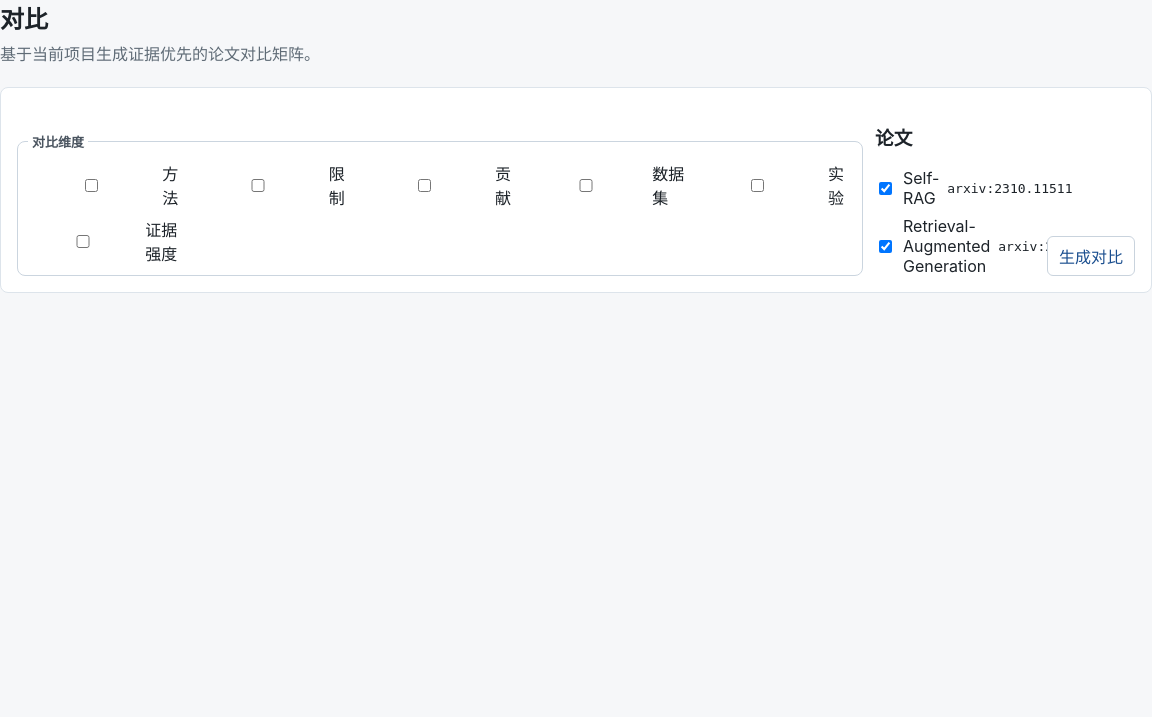
it: Overview and Library pages › compare page creates an evidence-first matrix and DSH handoff
Expected: the heading "对比" is shown, [0,5,48,34]
Click the checkbox labelled "方法". click: (92, 185)
box: [32,179,151,192]
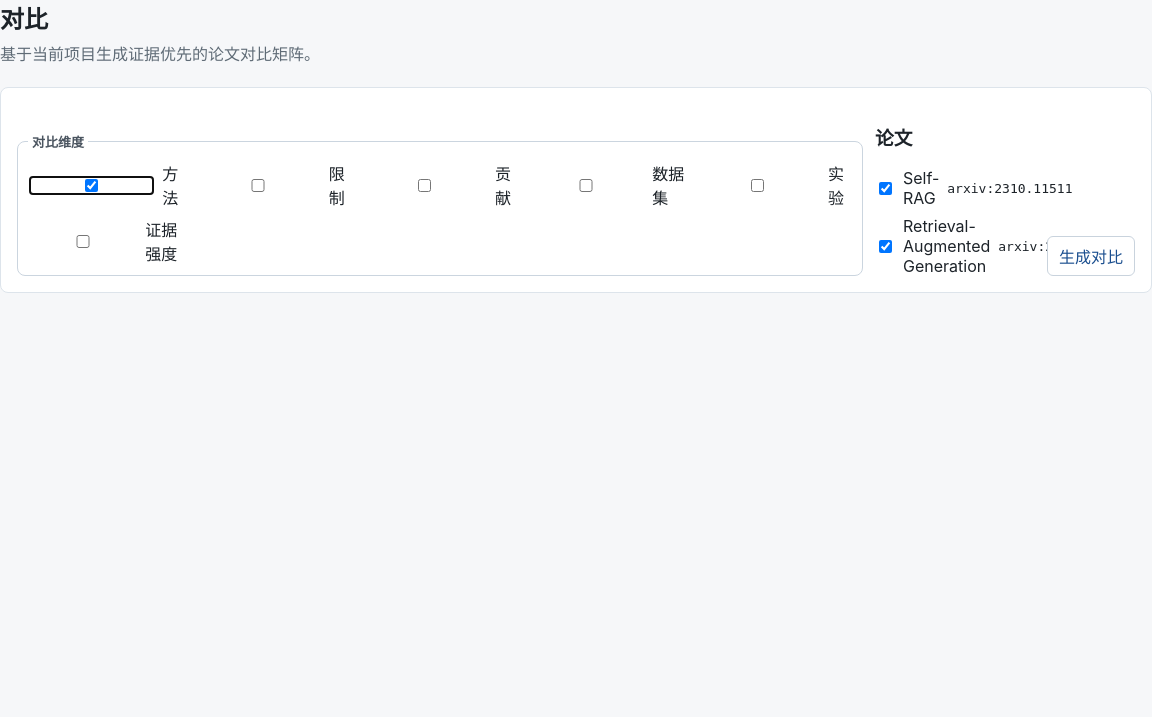
Click the checkbox labelled "限制". click: (258, 185)
box: [198,179,318,192]
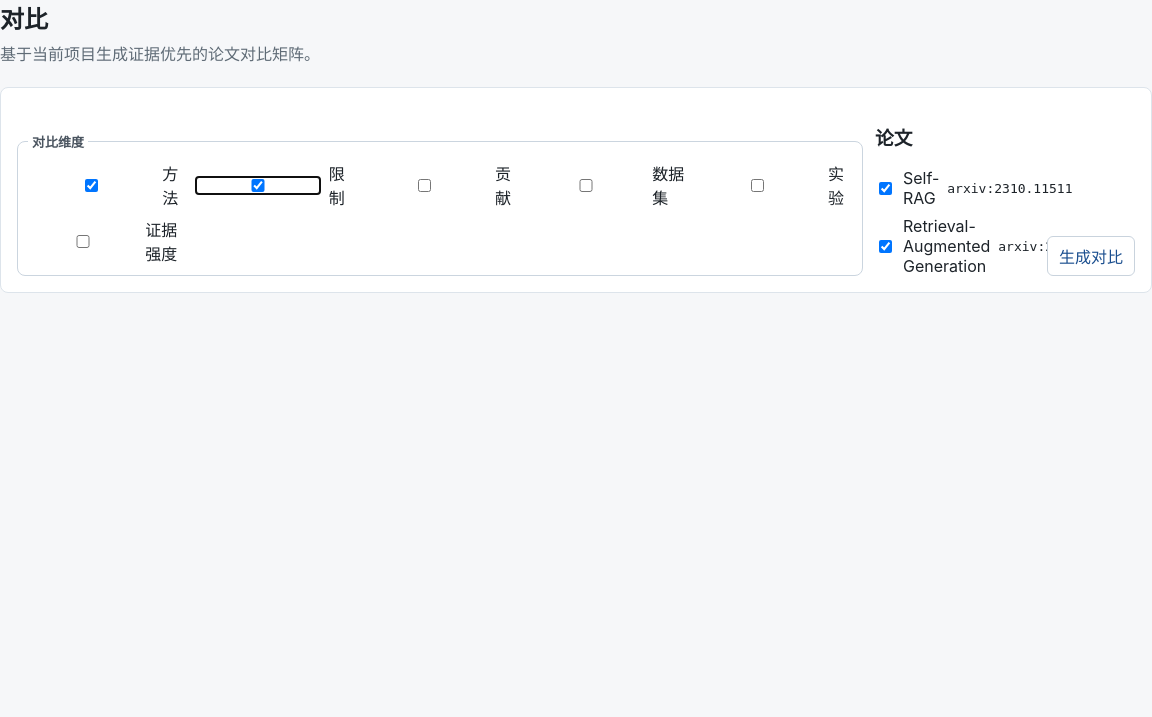
Click the button "生成对比". click: (1091, 256)
box: [1047,236,1135,276]
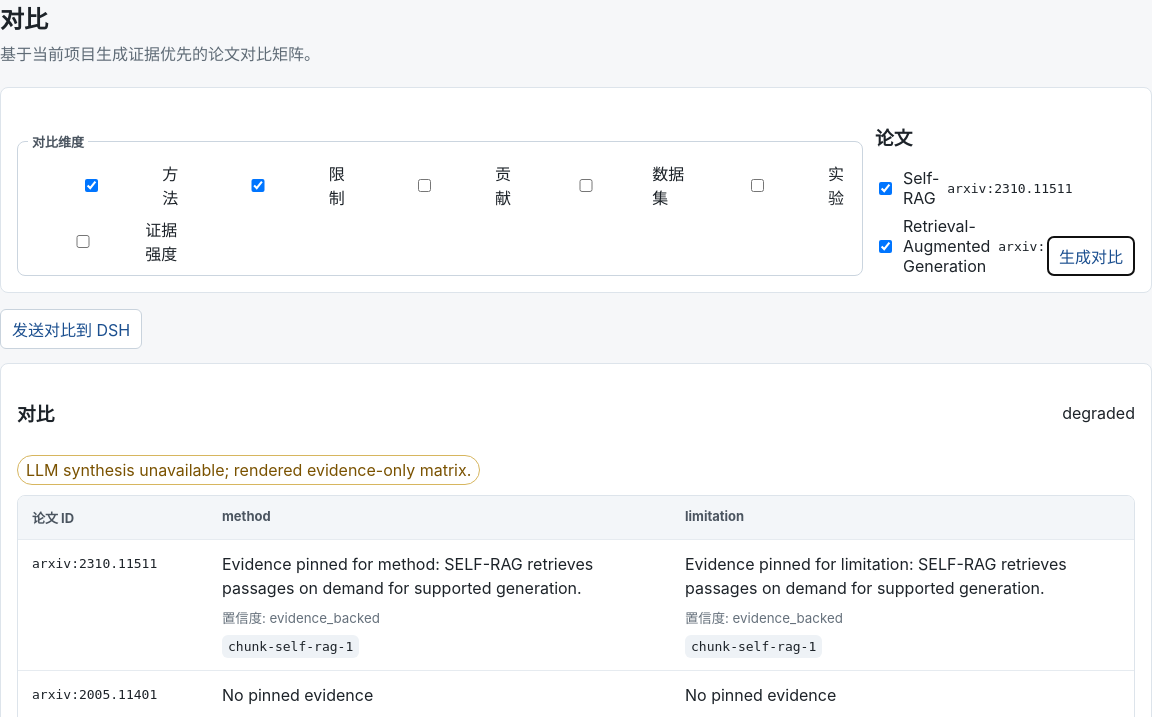
Result: the 1st text "chunk-self-rag-1" is shown at [222,635,359,658]
Result: the 1st text "No pinned evidence" is shown at [222,685,373,705]
Click the button "发送对比到 DSH". click: (71, 329)
box: [0,309,142,349]
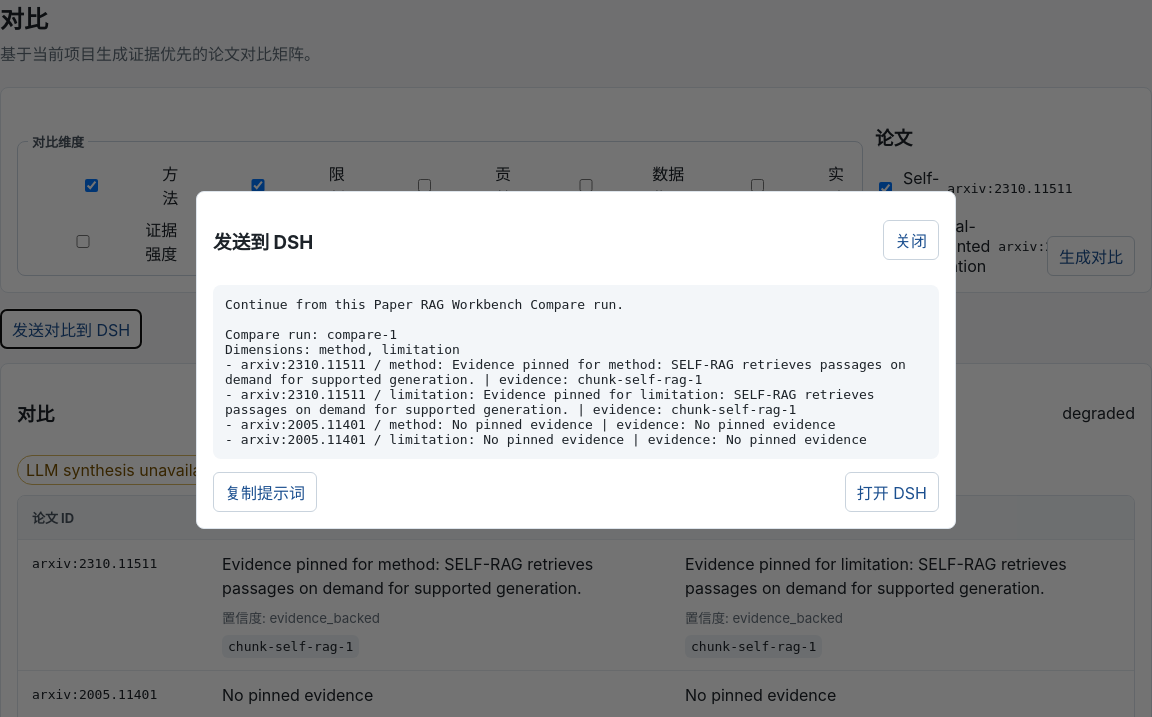
Result: the dialog "发送到 DSH" is shown at [196,191,956,529]
Result: the text "Compare run" is shown at [225,297,914,447]
